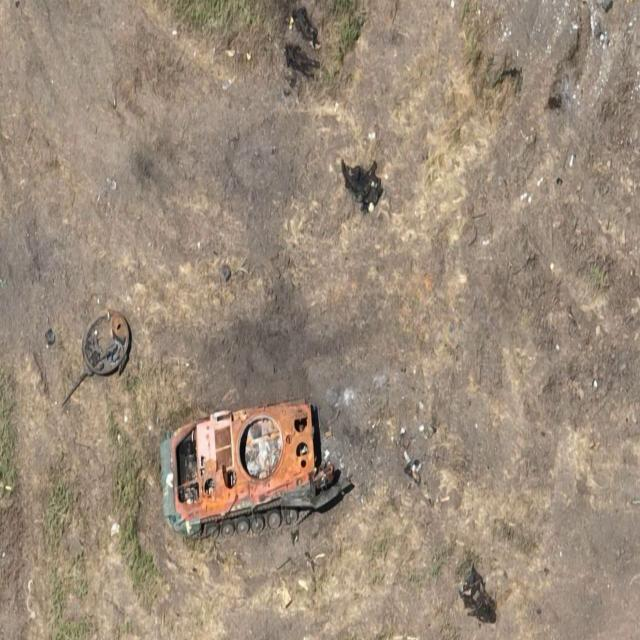Destroyed: (159, 393, 319, 535)
